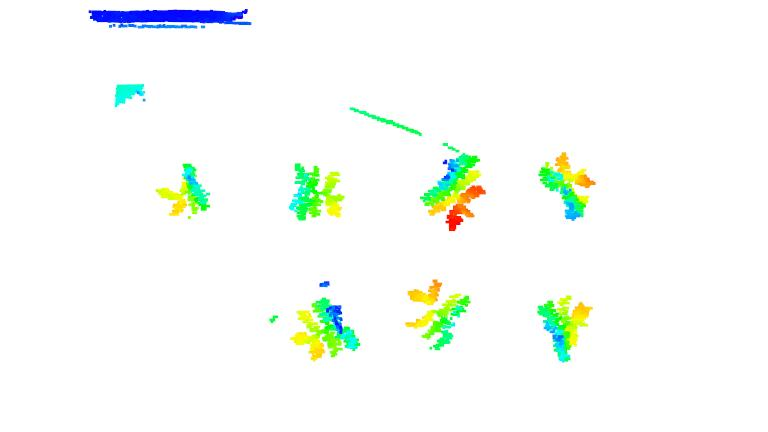chickpea: (419, 152, 484, 232), (286, 296, 365, 361), (405, 278, 474, 352), (531, 287, 591, 366), (539, 148, 594, 222), (284, 161, 348, 223), (155, 162, 214, 219)
